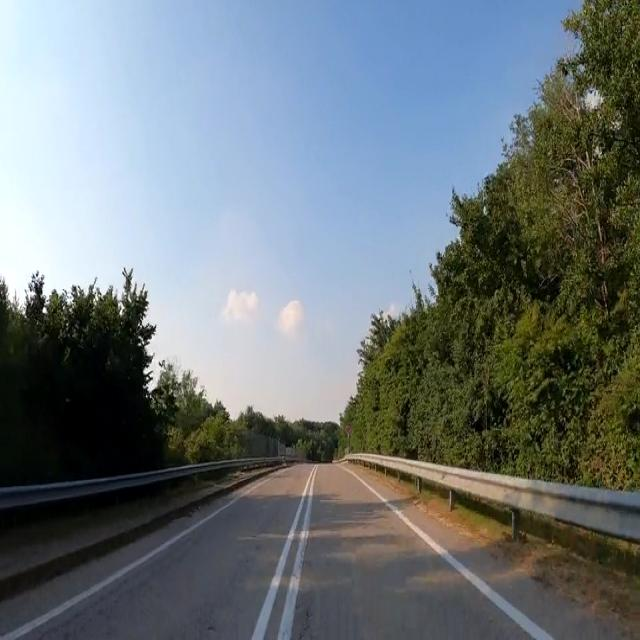lane: (0, 482, 260, 639), (343, 467, 553, 639)
road: (0, 462, 639, 638)
